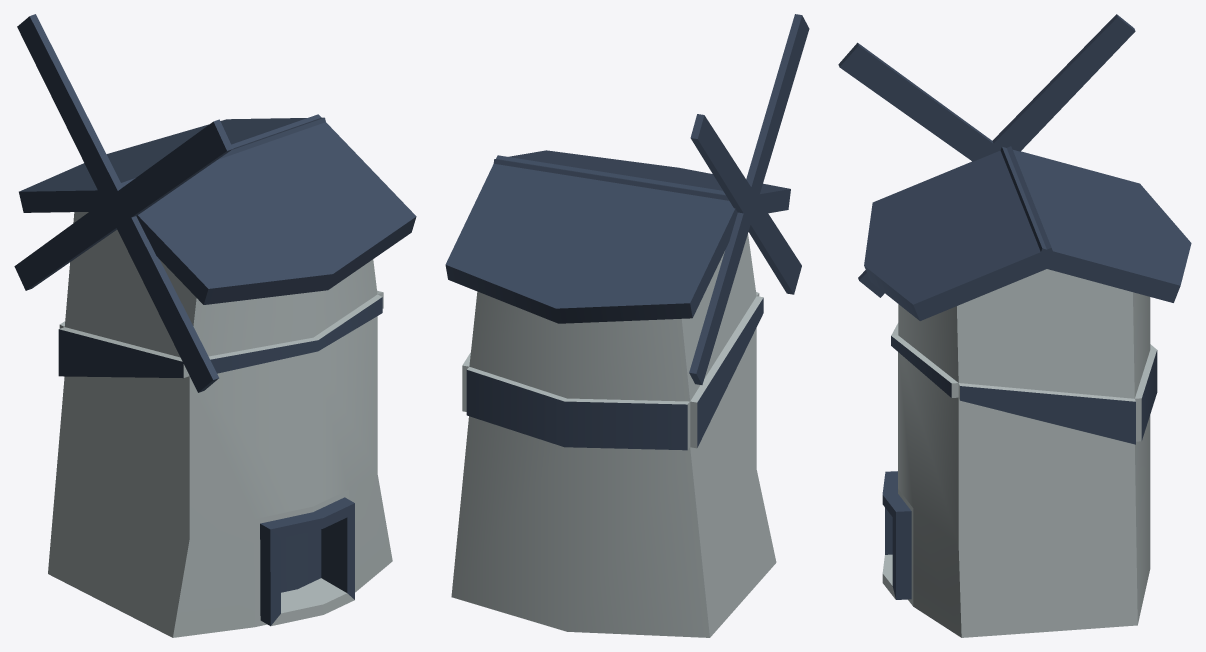
File: Windmill.fbx
The picture shows the model from 3 angles, left to right: view 1: azimuth 30°, elevation 25°; view 2: azimuth 150°, elevation 25°; view 3: azimuth 270°, elevation 25°; orthographic projection. The views are drawn at different scales.
Parts seen in each view (by area): view 1: Box072; view 2: Box072; view 3: Box072.
Boxes of the visible parts, x1,y1,x2,y2 form: Box072: (14, 14, 416, 637); Box072: (445, 14, 809, 637); Box072: (838, 14, 1191, 637).
Bounding box in the file's own units: 47.69 × 89.17 × 57.01.
Materials: 2 (2 with a texture image).
